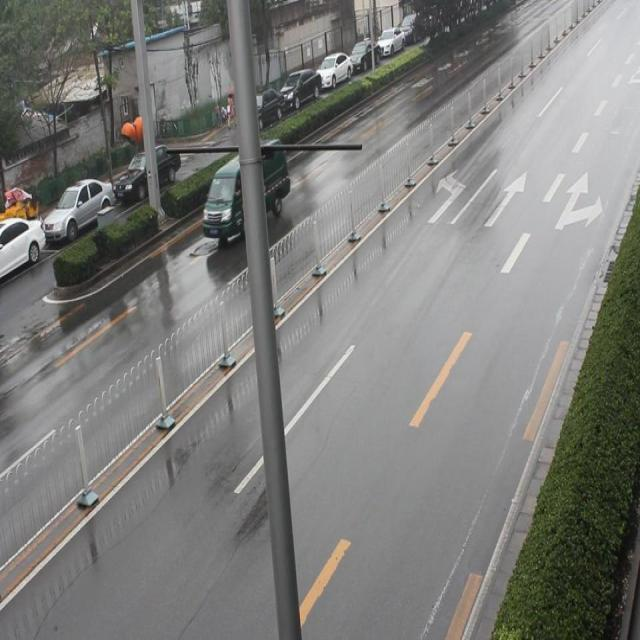truck: (201, 142, 289, 248)
